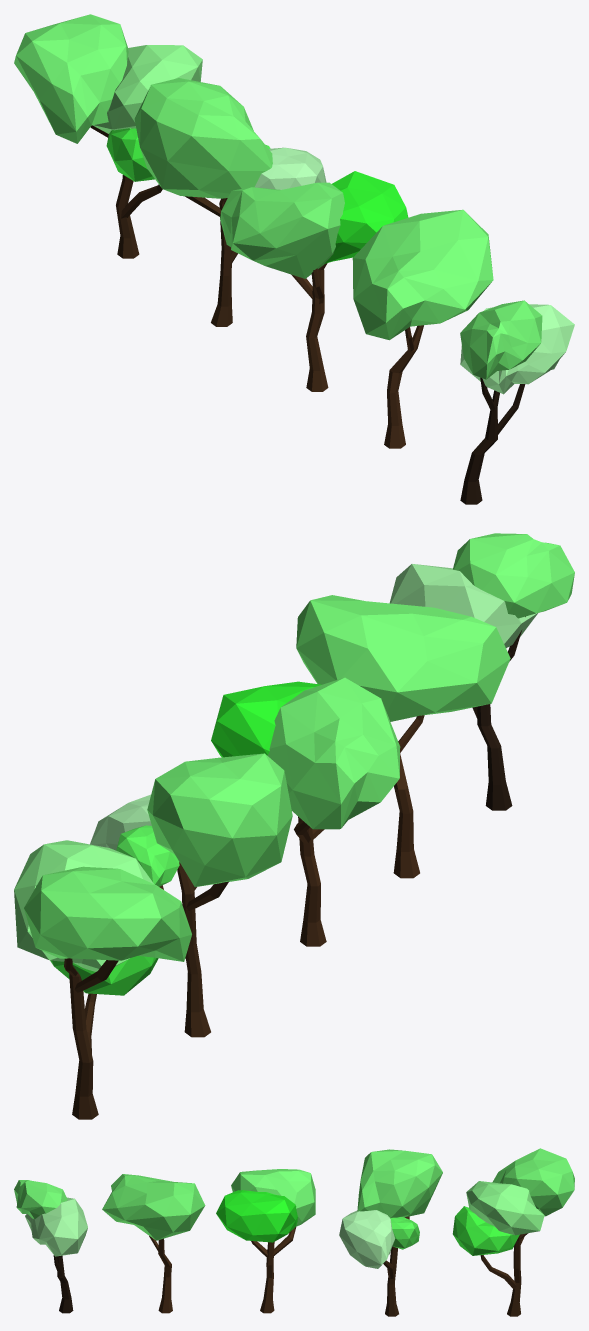
File: pohon pohon.fbx
The picture shows the model from 3 angles, top to bottom: view 1: azimuth 30°, elevation 25°; view 2: azimuth 150°, elevation 25°; view 3: azimuth 270°, elevation 25°; orthographic projection. The views are drawn at different scales.
Visible parts, largest first — view 1: Cylinder.004, Cylinder, Cylinder.002, Cylinder.001, Cylinder.003; view 2: Cylinder.004, Cylinder, Cylinder.002, Cylinder.001, Cylinder.003; view 3: Cylinder.004, Cylinder, Cylinder.001, Cylinder.002, Cylinder.003.
Part boxes in pixels (x1=…): Cylinder.004: x1=14, y1=14, x2=202, y2=258; Cylinder: x1=134, y1=78, x2=326, y2=326; Cylinder.002: x1=352, y1=209, x2=493, y2=448; Cylinder.001: x1=220, y1=171, x2=408, y2=391; Cylinder.003: x1=460, y1=300, x2=574, y2=504; Cylinder.004: x1=14, y1=840, x2=191, y2=1119; Cylinder: x1=90, y1=753, x2=292, y2=1037; Cylinder.002: x1=296, y1=595, x2=510, y2=878; Cylinder.001: x1=211, y1=677, x2=400, y2=946; Cylinder.003: x1=389, y1=533, x2=574, y2=810; Cylinder.004: x1=452, y1=1148, x2=574, y2=1316; Cylinder: x1=339, y1=1149, x2=442, y2=1316; Cylinder.001: x1=216, y1=1169, x2=315, y2=1313; Cylinder.002: x1=102, y1=1174, x2=205, y2=1313; Cylinder.003: x1=14, y1=1180, x2=87, y2=1313.
Bounding box in the file's own units: 1450 × 1729 × 5853.
